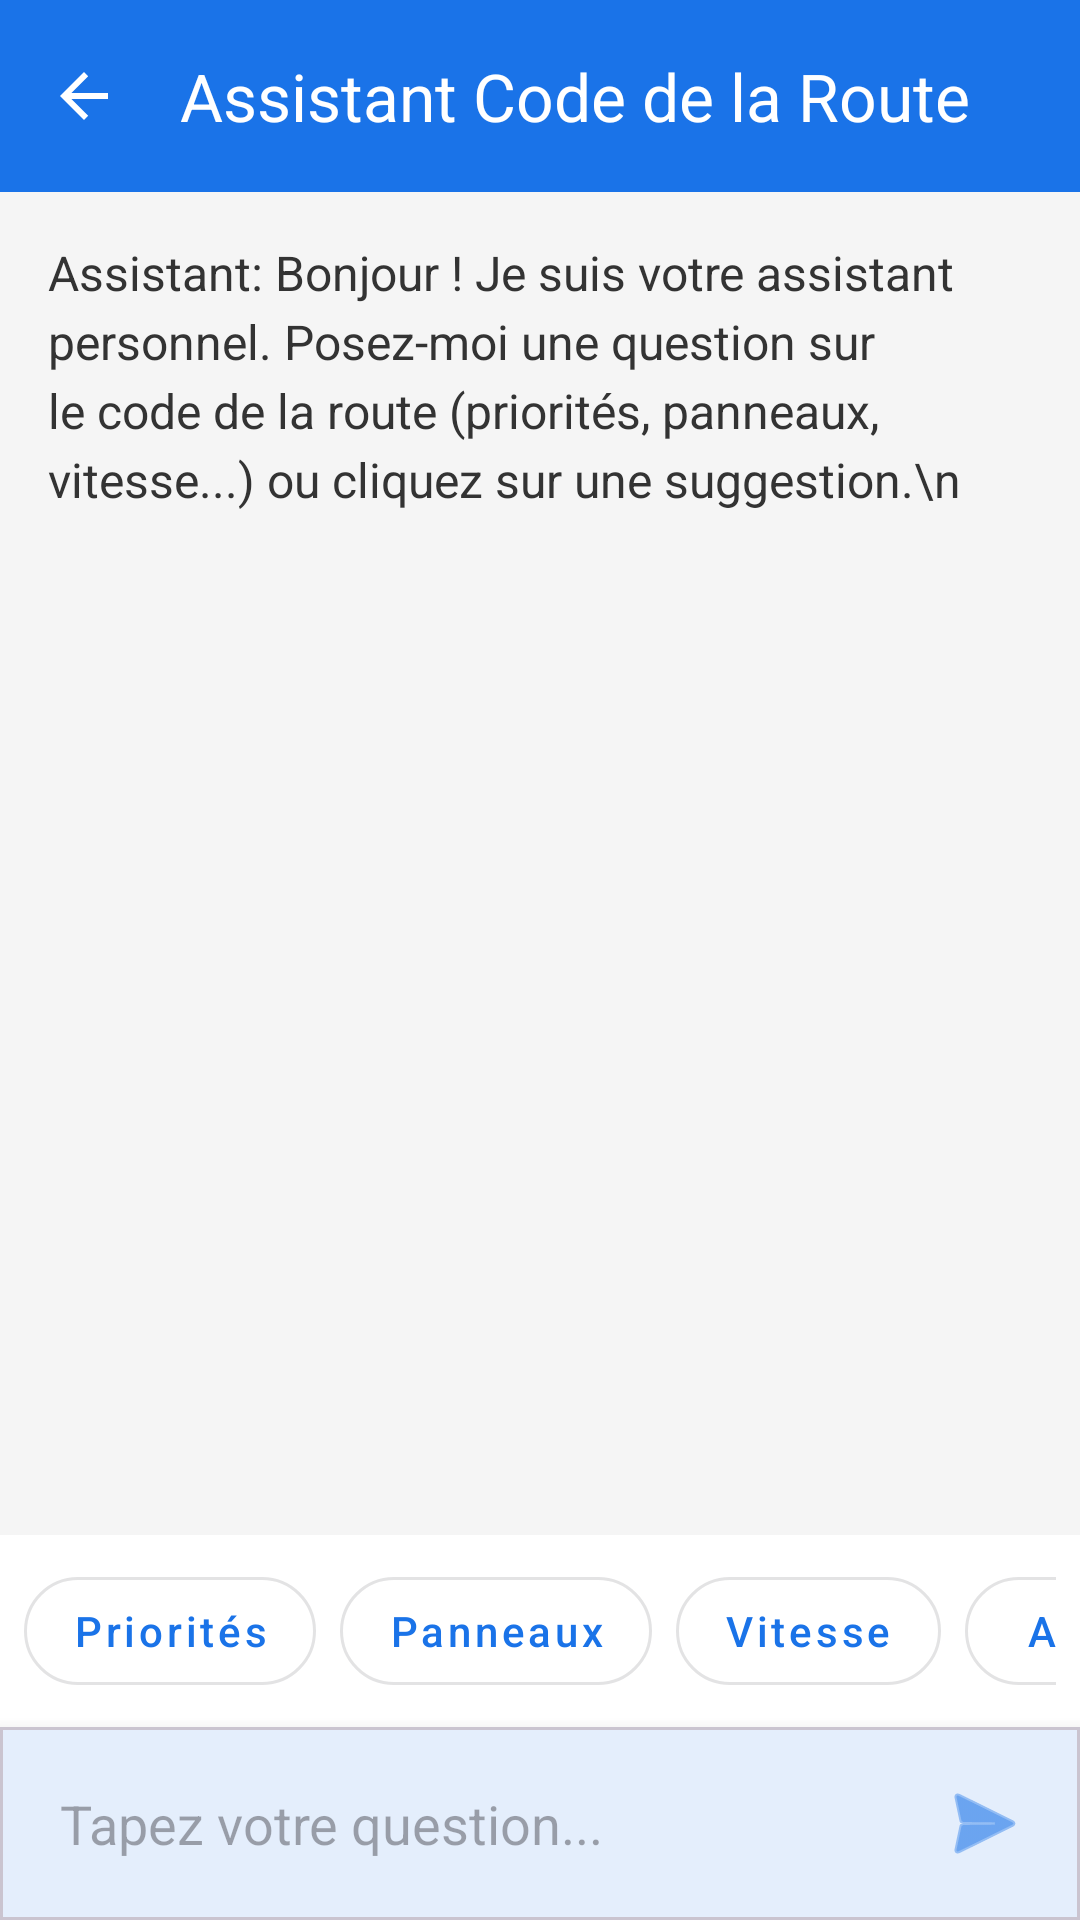

Screen size 1080×1920. Icon name, then its box in pixels as (x1, y1, x2, y2):
Envoyer: (954, 1793, 1016, 1854)
